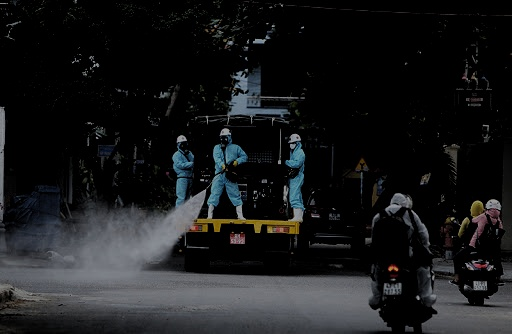plate: (382, 281, 407, 298), (228, 231, 246, 247), (471, 278, 488, 291)
